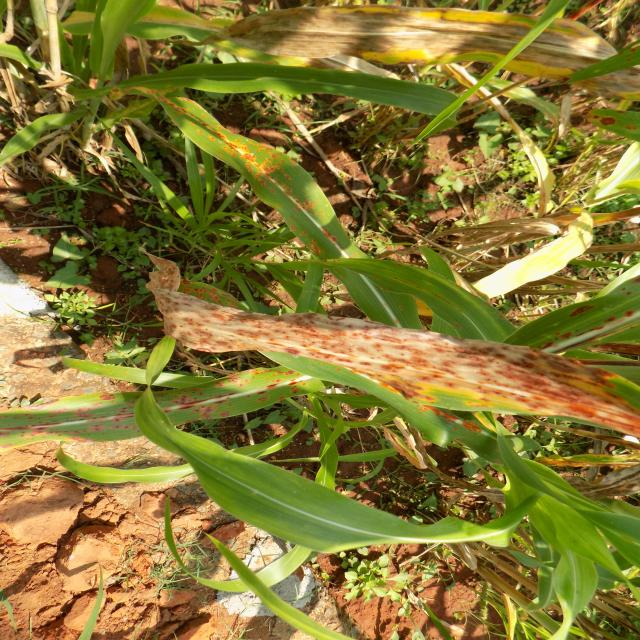millet_healthy: (119, 321, 552, 560), (372, 419, 640, 640), (277, 238, 529, 350), (192, 524, 418, 640), (153, 498, 384, 604), (120, 61, 497, 124), (49, 412, 334, 488), (60, 0, 154, 118), (37, 344, 241, 392)
millet_rust: (146, 260, 640, 434), (103, 84, 427, 326), (192, 2, 640, 84), (0, 366, 331, 443), (485, 259, 640, 375), (49, 0, 245, 37), (562, 94, 640, 146)
